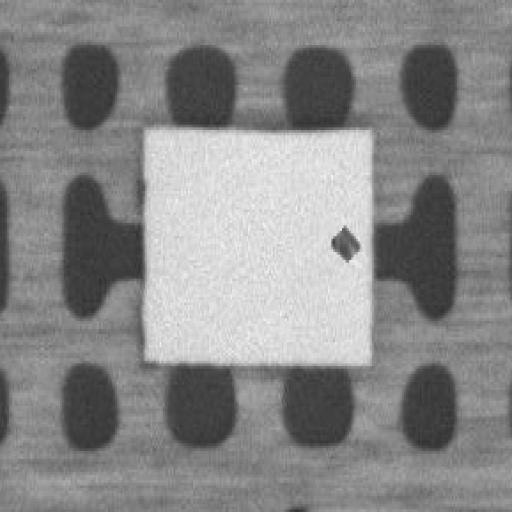DIE_INK: (490, 147, 512, 176)
